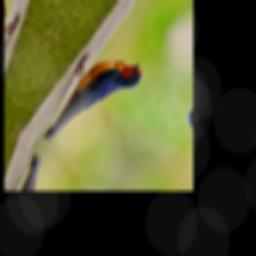Swallow: (35, 32, 150, 171)
